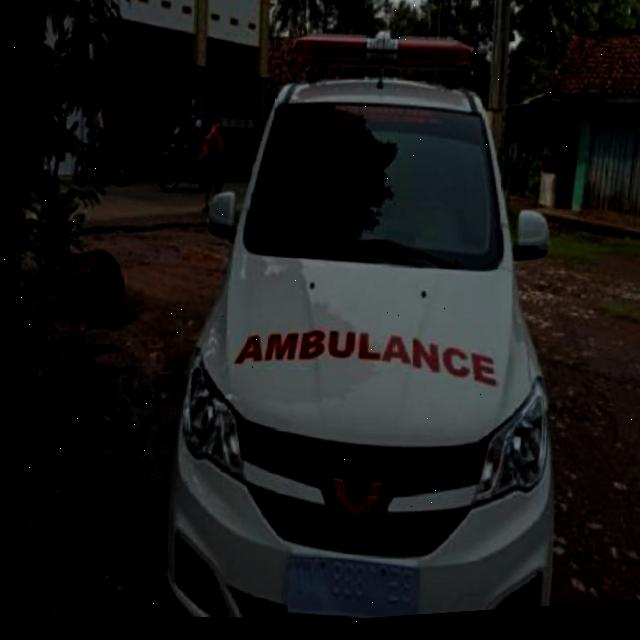emergency: (124, 4, 595, 634)
